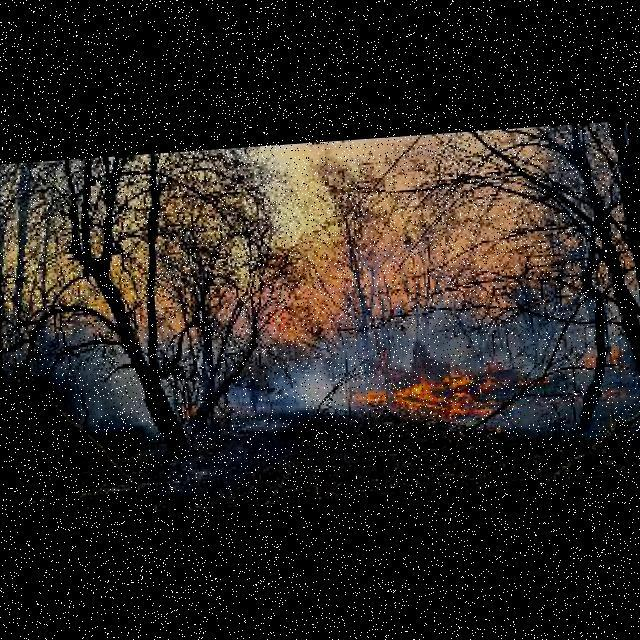Fire: (394, 360, 505, 419), (355, 388, 388, 404), (607, 343, 628, 366), (583, 351, 598, 366)
